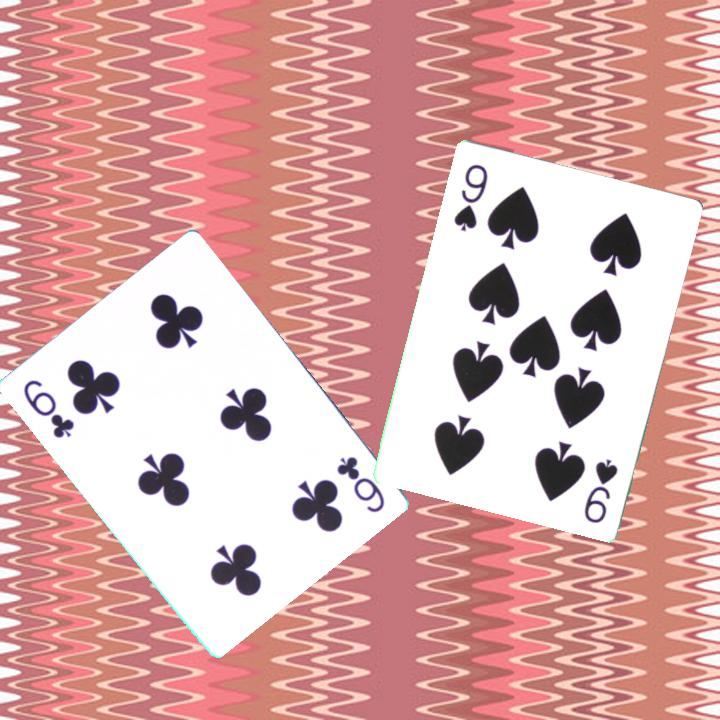6c: (18, 375, 77, 441), (332, 452, 388, 516)
9s: (449, 159, 491, 234), (580, 454, 621, 526)
